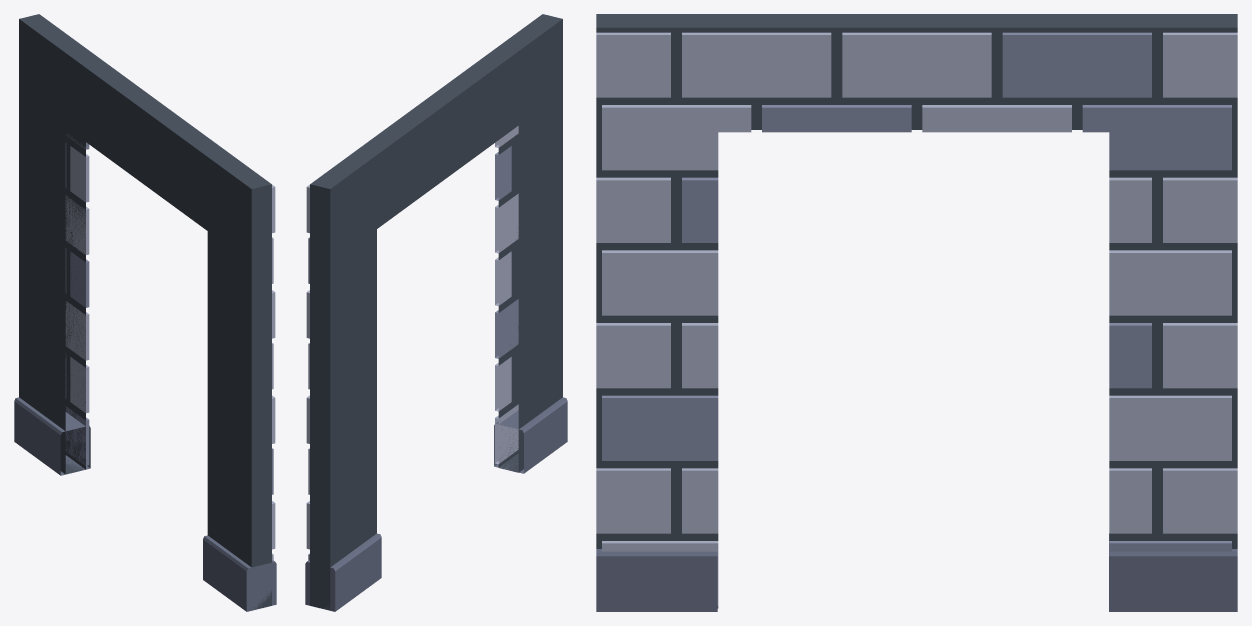
The model's file is WallDoorBox_Stone.fbx.
3 views of the same model, side by side, from view 1: azimuth 30°, elevation 25°; view 2: azimuth 150°, elevation 25°; view 3: azimuth 270°, elevation 25° (orthographic). The views are drawn at different scales.
Visible parts, largest first — view 1: WallDoorBox_Stone; view 2: WallDoorBox_Stone; view 3: WallDoorBox_Stone.
Boxes of the visible parts, bbox=[...] form: WallDoorBox_Stone: bbox=[14, 14, 276, 611]; WallDoorBox_Stone: bbox=[305, 14, 567, 611]; WallDoorBox_Stone: bbox=[596, 14, 1237, 611].
Bounding box in the file's own units: 0.1488 × 2 × 2.
